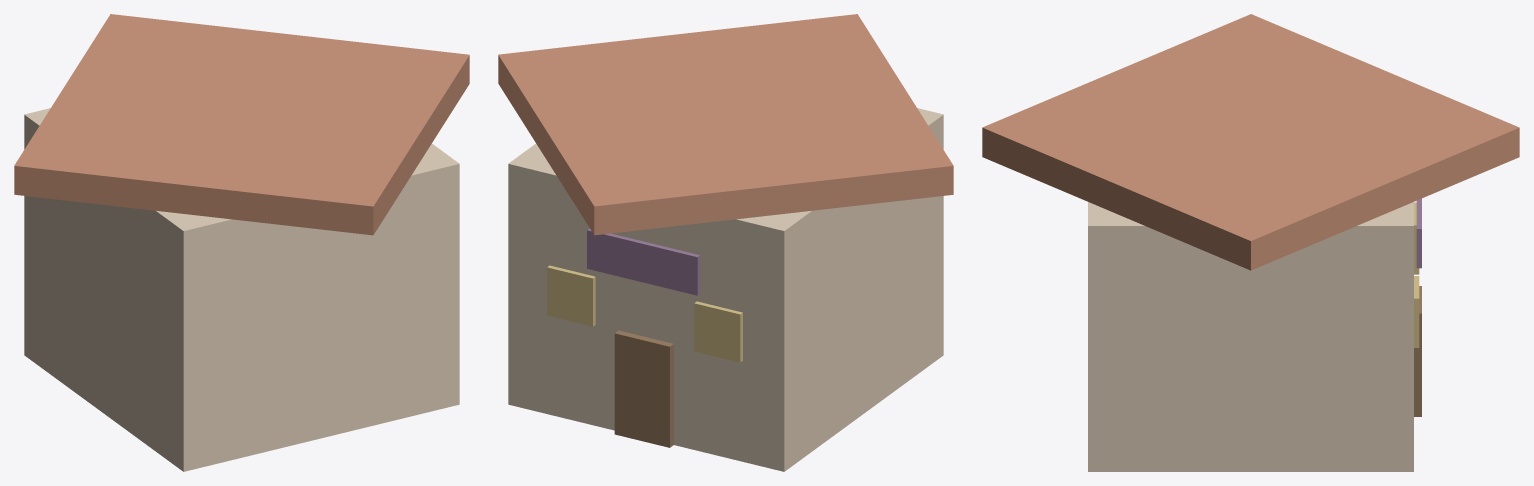
File: MerchantHouse.glb
3 renders of one model, left to right at view 1: azimuth 30°, elevation 25°; view 2: azimuth 150°, elevation 25°; view 3: azimuth 270°, elevation 25°, orthographic. The views are drawn at different scales.
Visible parts, largest first — view 1: nervix_house, nervix_house_roof; view 2: nervix_house, nervix_house_roof, nervix_house_door, nervix_house_sign, nervix_house_window, nervix_house_window2; view 3: nervix_house_roof, nervix_house, nervix_house_door.
Part boxes in pixels (left/top/right/bottom): nervix_house: left=24, top=108, right=459, bottom=471; nervix_house_roof: left=14, top=14, right=469, bottom=235; nervix_house: left=508, top=108, right=943, bottom=471; nervix_house_roof: left=498, top=14, right=953, bottom=235; nervix_house_door: left=614, top=330, right=673, bottom=447; nervix_house_sign: left=587, top=228, right=700, bottom=295; nervix_house_window: left=694, top=301, right=742, bottom=362; nervix_house_window2: left=547, top=265, right=595, bottom=326; nervix_house_roof: left=982, top=14, right=1519, bottom=270; nervix_house: left=1088, top=202, right=1413, bottom=471; nervix_house_door: left=1414, top=286, right=1421, bottom=416.
Size of the model in its own units: 9.9 by 5.6 by 9.9.
